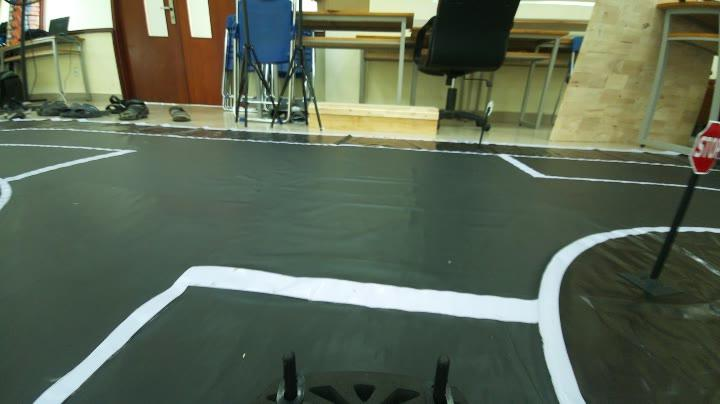stop: (686, 120, 720, 174)
